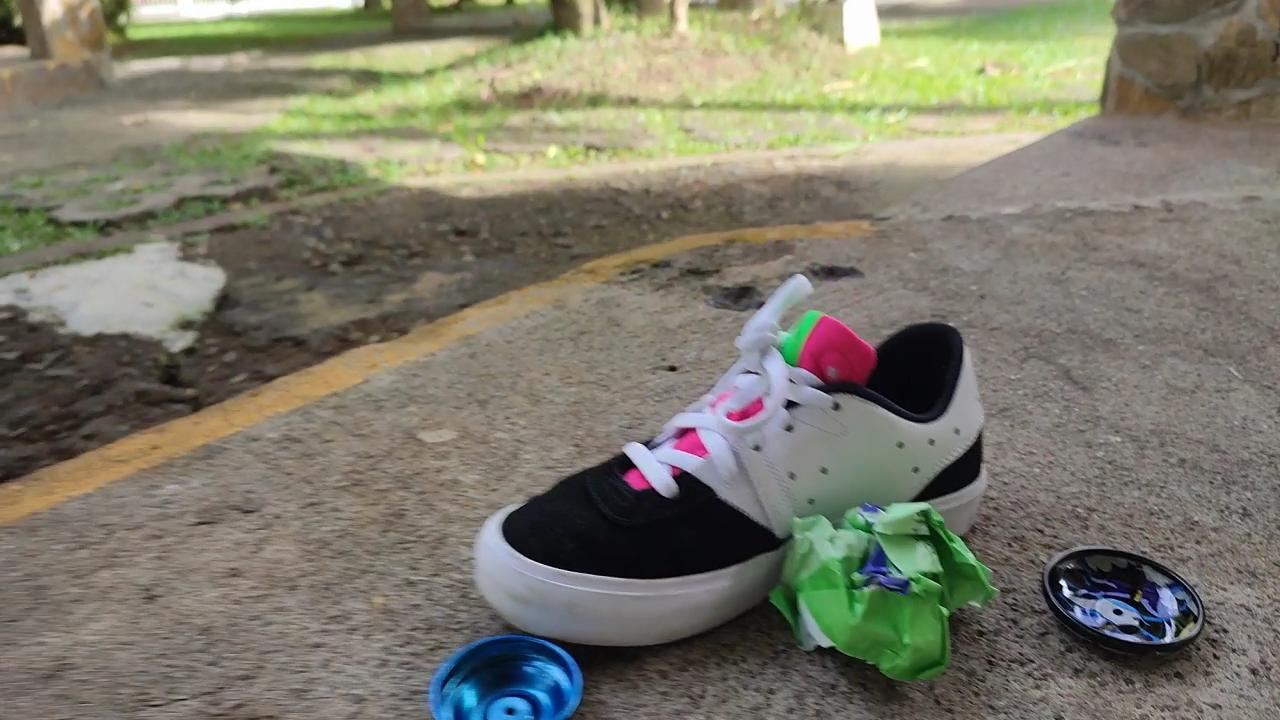Paper: (761, 475, 1003, 703)
